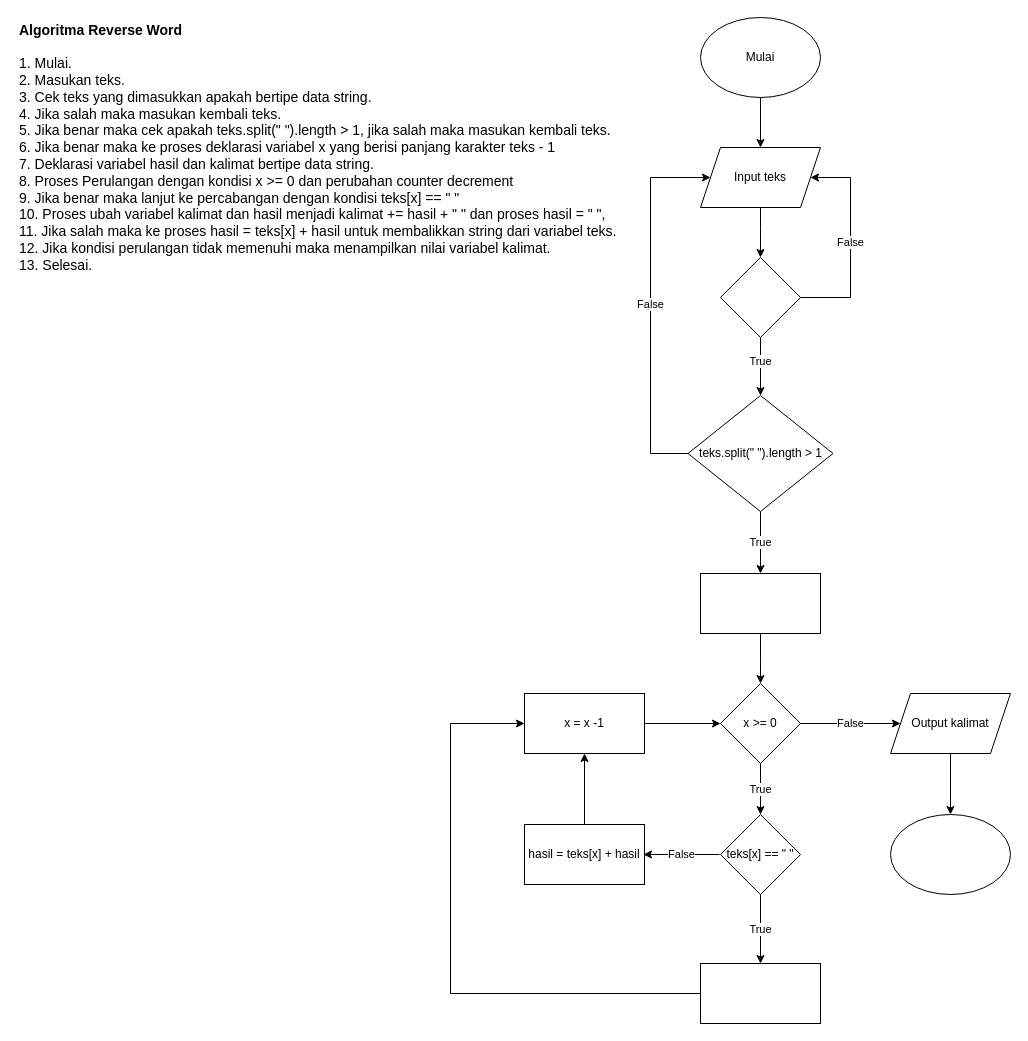
Image size: 1028x1041. Some labels were removed from this diagram. The shapes that lost their labels are listed below. From the top down, each one's centre as x and y in pixels, then its label:
[760,297]: teks == string
[760,603]: x = teks.length - 1 hasil = "" kalimat = ""
[950,854]: Selesai
[760,993]: kalimat += hasil + " " hasil = " "
